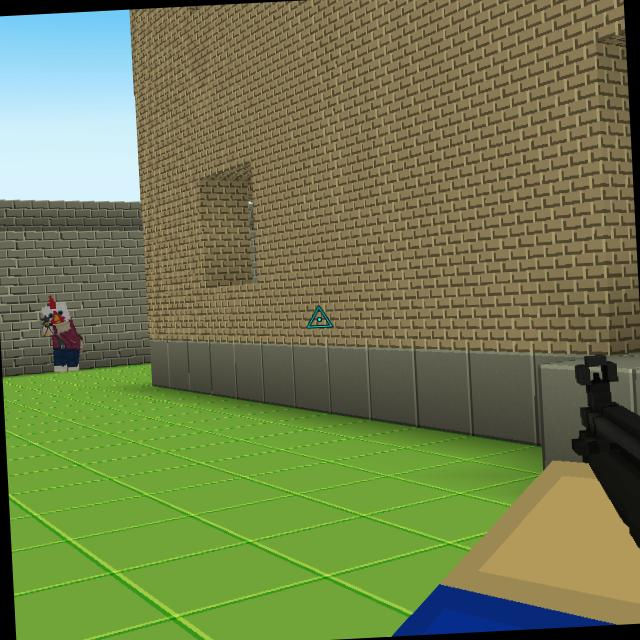enemy: (36, 292, 84, 375)
